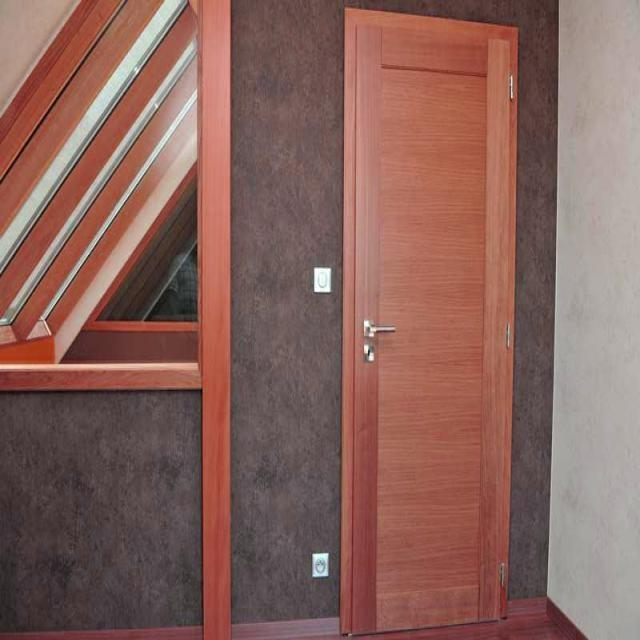door: (339, 6, 518, 636)
